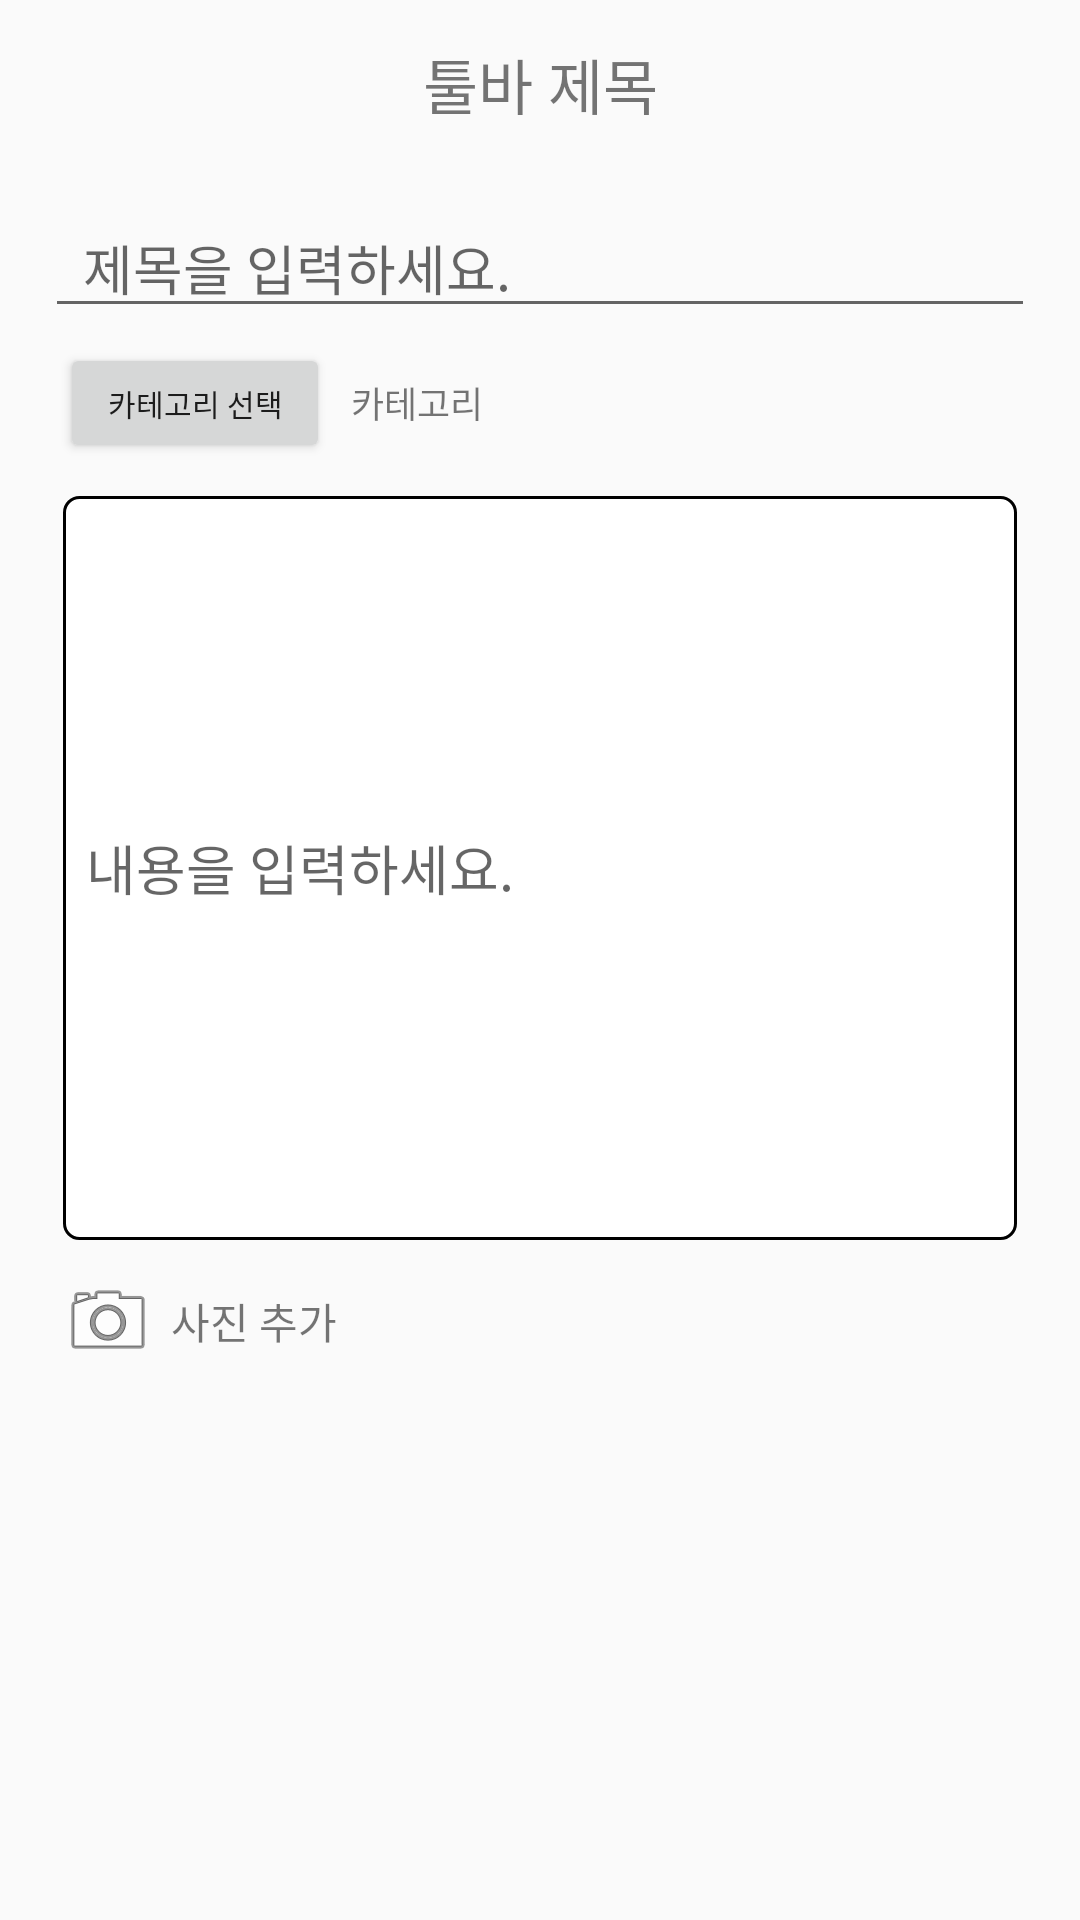

Icons on this 1080×1920 Android screen, each with the point to tap as point (x, y):
camera: point (108, 1319)
